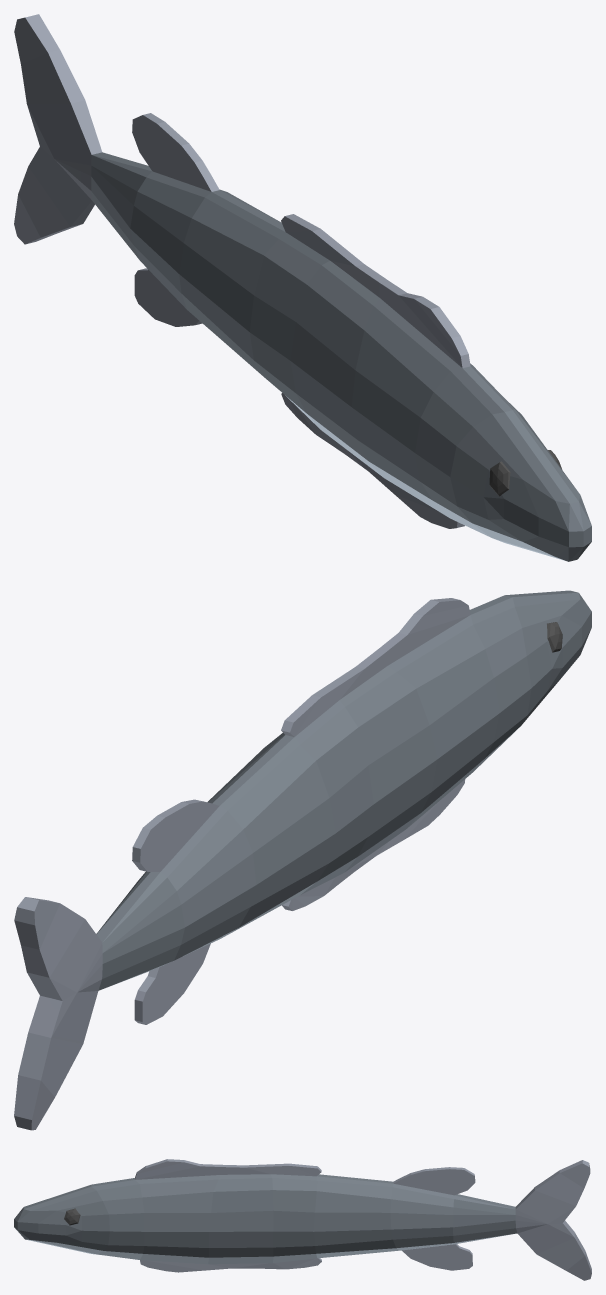
File: fish03.fbx
The picture shows the model from 3 angles, top to bottom: view 1: azimuth 30°, elevation 25°; view 2: azimuth 150°, elevation 25°; view 3: azimuth 270°, elevation 25°; orthographic projection. The views are drawn at different scales.
Visible parts, largest first — view 1: fish03; view 2: fish03; view 3: fish03.
Part boxes in pixels (x1=…): fish03: x1=14, y1=14, x2=591, y2=561; fish03: x1=14, y1=590, x2=591, y2=1130; fish03: x1=14, y1=1159, x2=591, y2=1280.
Size of the model in its own units: 7.06 by 79.86 by 18.18.
